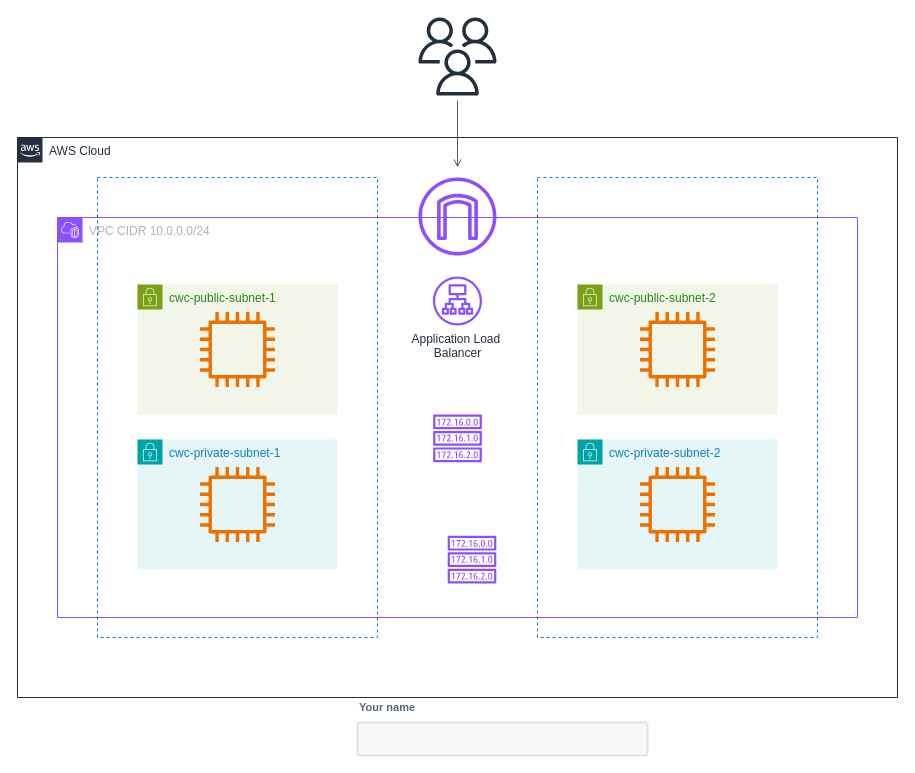
This 915x773 diagram has some shape labels left out. The box of each missing label's shape, as (x1, y1, x2, y2) in pixels:
By: Assefa Altaye, Still Editing.....: (356, 721, 648, 756)
us-east-1a: (96, 176, 378, 638)
us-east-1b: (536, 176, 818, 638)
